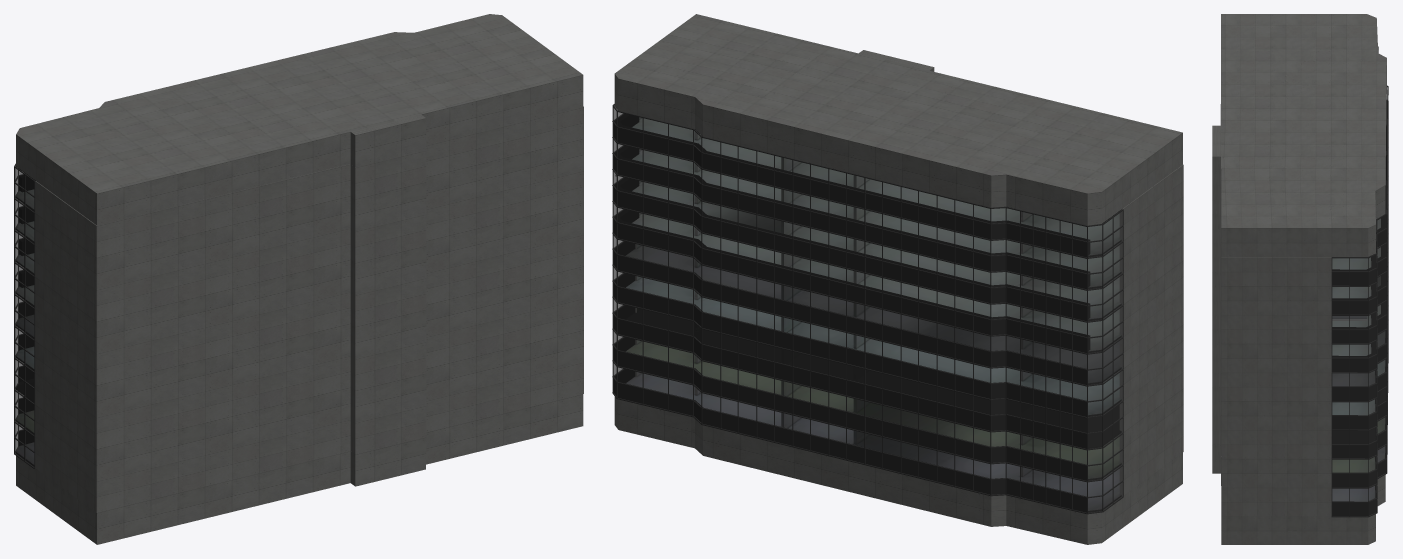
Rendered from office_building.glb.
3 renders of one model, left to right at view 1: azimuth 30°, elevation 25°; view 2: azimuth 150°, elevation 25°; view 3: azimuth 270°, elevation 25°, orthographic. The views are drawn at different scales.
Parts seen in each view (by area): view 1: BLD_OFFICE_06_w2_0, BLD_OFFICE_09_w2_0, BLD_OFFICE_010_w2_0, BLD_OFFICE_01_glass_0, BLD_OFFICE_02_rams_0, BLD_OFFICE_05_walls [BLD_OFFICE_05]_0, BLD_OFFICE_00_walls_exterior_0; view 2: BLD_OFFICE_01_glass_0, BLD_OFFICE_00_walls_exterior_0, BLD_OFFICE_05_walls [BLD_OFFICE_05]_0, BLD_OFFICE_09_w2_0, BLD_OFFICE_02_rams_0, BLD_OFFICE_06_w2_0, BLD_OFFICE_010_w2_0; view 3: BLD_OFFICE_09_w2_0, BLD_OFFICE_06_w2_0, BLD_OFFICE_01_glass_0, BLD_OFFICE_00_walls_exterior_0, BLD_OFFICE_05_walls [BLD_OFFICE_05]_0, BLD_OFFICE_010_w2_0, BLD_OFFICE_02_rams_0.
Part boxes in pixels (x1=…): BLD_OFFICE_06_w2_0: x1=35, y1=106, x2=583, y2=512; BLD_OFFICE_09_w2_0: x1=16, y1=14, x2=583, y2=225; BLD_OFFICE_010_w2_0: x1=16, y1=394, x2=583, y2=544; BLD_OFFICE_01_glass_0: x1=15, y1=168, x2=33, y2=466; BLD_OFFICE_02_rams_0: x1=14, y1=163, x2=35, y2=468; BLD_OFFICE_05_walls [BLD_OFFICE_05]_0: x1=16, y1=166, x2=35, y2=466; BLD_OFFICE_00_walls_exterior_0: x1=19, y1=175, x2=34, y2=445; BLD_OFFICE_01_glass_0: x1=613, y1=107, x2=1122, y2=512; BLD_OFFICE_00_walls_exterior_0: x1=613, y1=114, x2=1090, y2=512; BLD_OFFICE_05_walls [BLD_OFFICE_05]_0: x1=615, y1=106, x2=1121, y2=512; BLD_OFFICE_09_w2_0: x1=614, y1=14, x2=1182, y2=225; BLD_OFFICE_02_rams_0: x1=612, y1=104, x2=1123, y2=514; BLD_OFFICE_06_w2_0: x1=635, y1=164, x2=1183, y2=496; BLD_OFFICE_010_w2_0: x1=614, y1=396, x2=1182, y2=544; BLD_OFFICE_09_w2_0: x1=1212, y1=14, x2=1386, y2=256; BLD_OFFICE_06_w2_0: x1=1212, y1=104, x2=1331, y2=516; BLD_OFFICE_01_glass_0: x1=1332, y1=87, x2=1387, y2=515; BLD_OFFICE_00_walls_exterior_0: x1=1332, y1=101, x2=1387, y2=515; BLD_OFFICE_05_walls [BLD_OFFICE_05]_0: x1=1332, y1=218, x2=1385, y2=501; BLD_OFFICE_010_w2_0: x1=1212, y1=444, x2=1385, y2=544; BLD_OFFICE_02_rams_0: x1=1331, y1=46, x2=1388, y2=517.
Bounding box in the file's own units: 285 × 195 × 98.47.
8 materials, 3 textured.
